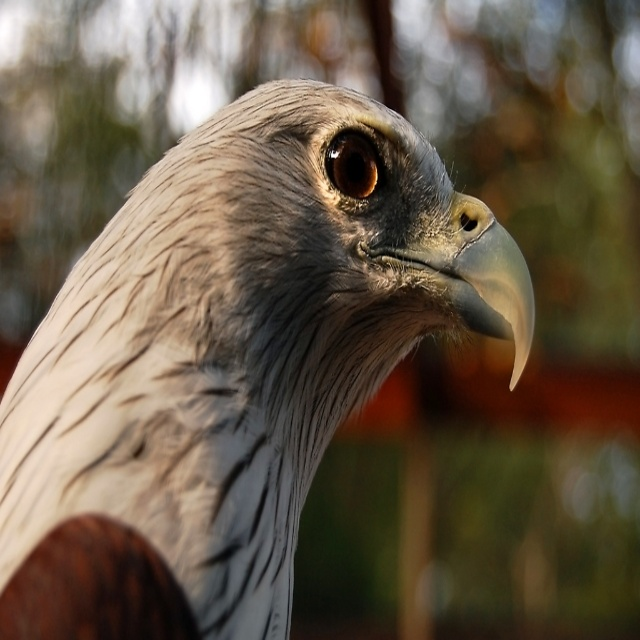Eagle: (0, 77, 536, 639)
